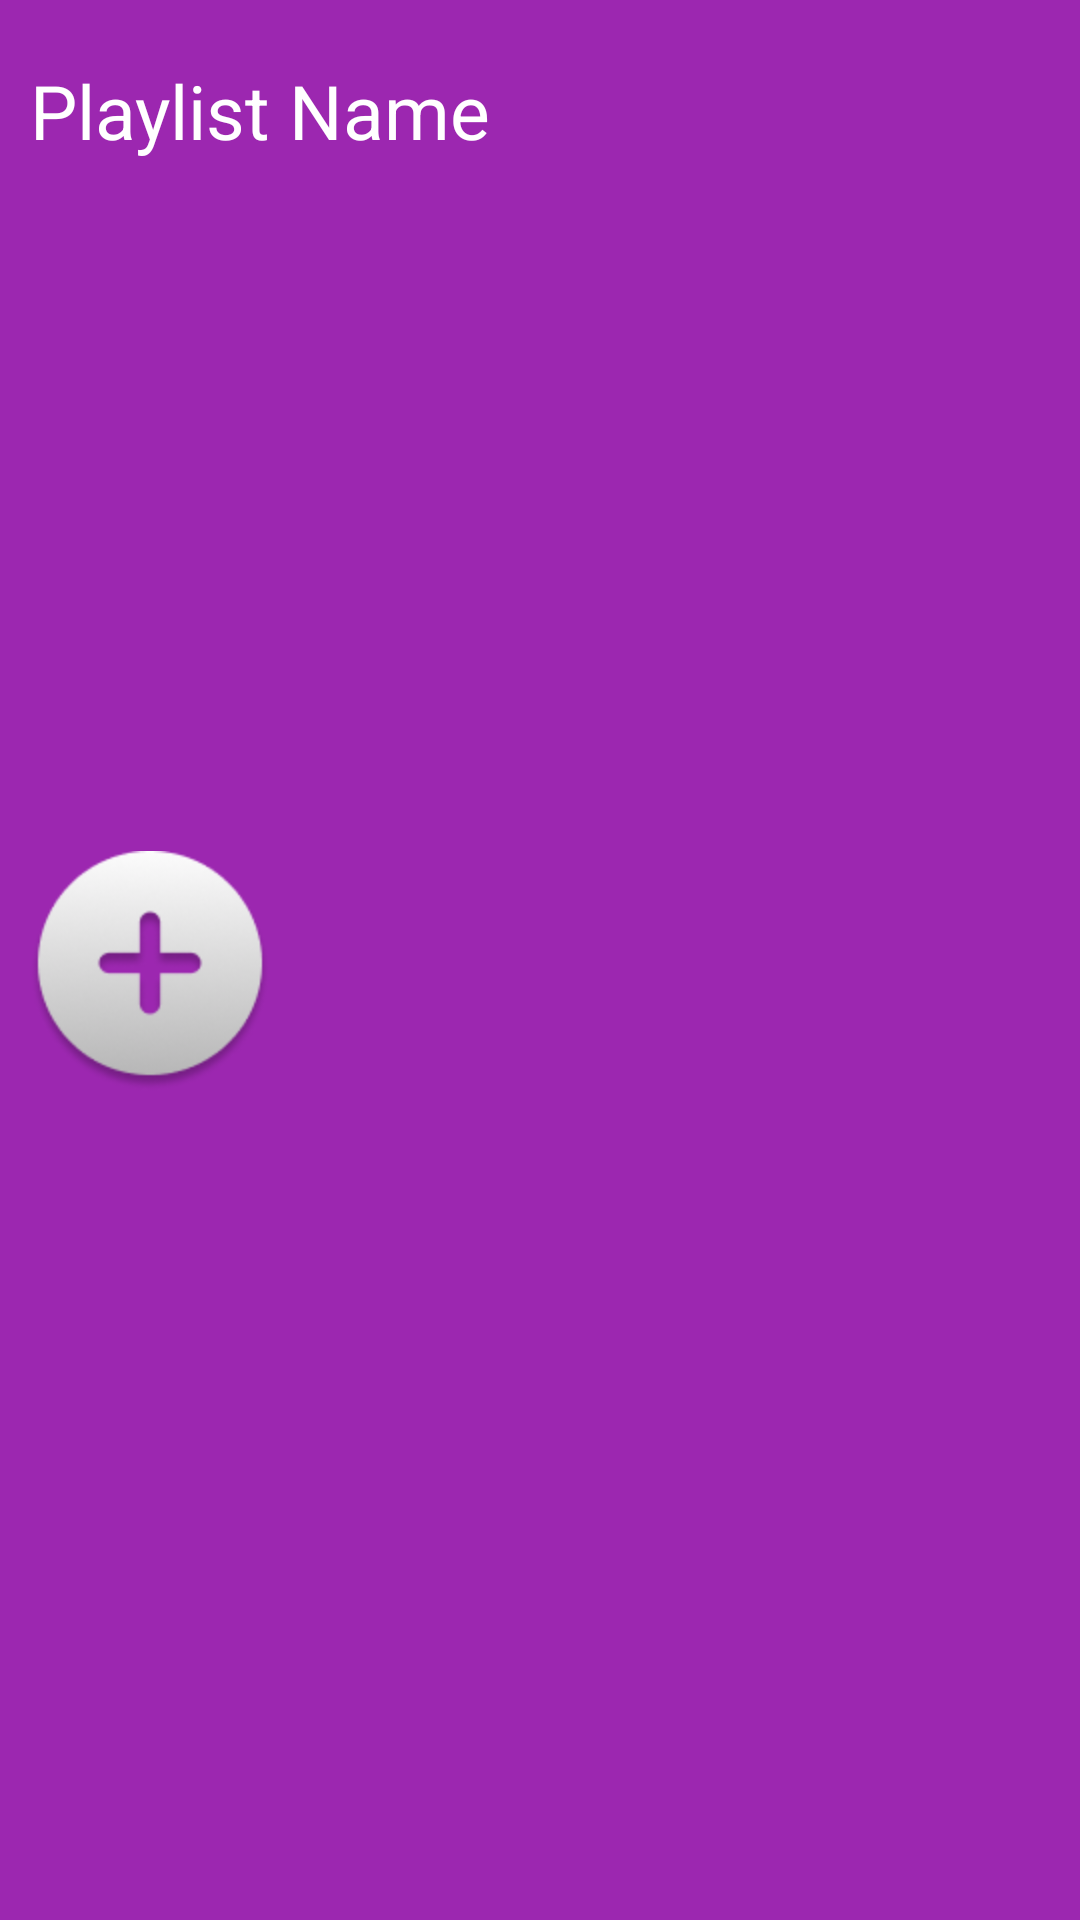

Named icons in this screenshot (1080 x 1920) and their centers, (x,y):
add: (150,967)
